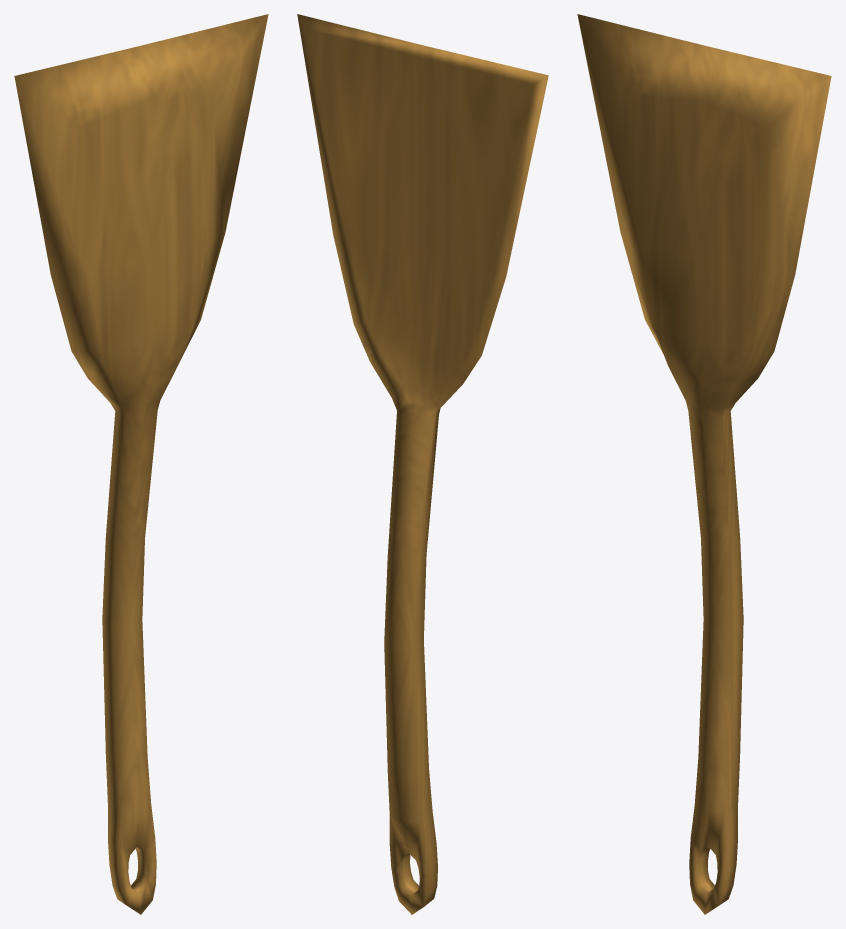
File: ustensils1.glb
3 views of the same model, side by side, from view 1: azimuth 30°, elevation 25°; view 2: azimuth 150°, elevation 25°; view 3: azimuth 330°, elevation 25° (orthographic).
Parts seen in each view (by area): view 1: ustensils1; view 2: ustensils1; view 3: ustensils1.
Boxes of the visible parts, <box> form: ustensils1: <box>14,14,268,914</box>; ustensils1: <box>297,14,548,914</box>; ustensils1: <box>577,14,831,914</box>.
Bounding box in the file's own units: 0.1932 × 0.6326 × 0.0459.
Materials: 1 (1 with a texture image).
